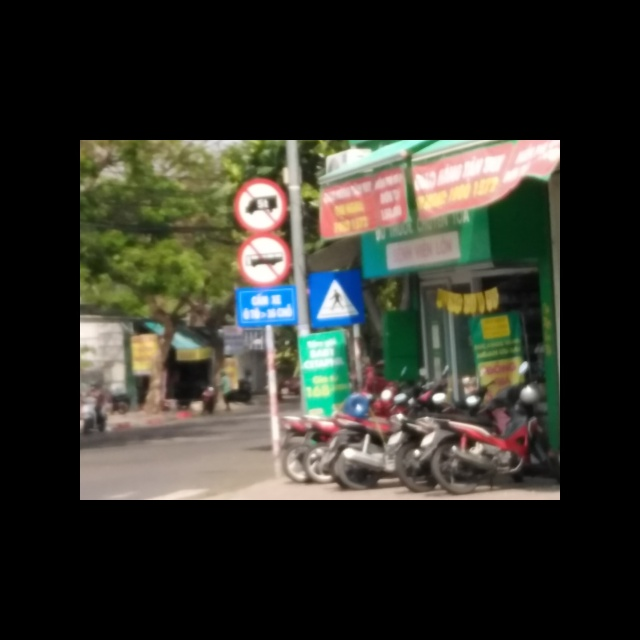Cấm xe tải: (232, 175, 288, 232)
Cấm xe xe khách: (236, 232, 289, 286)
Đường dành cho người đi bộ: (307, 270, 366, 328)
